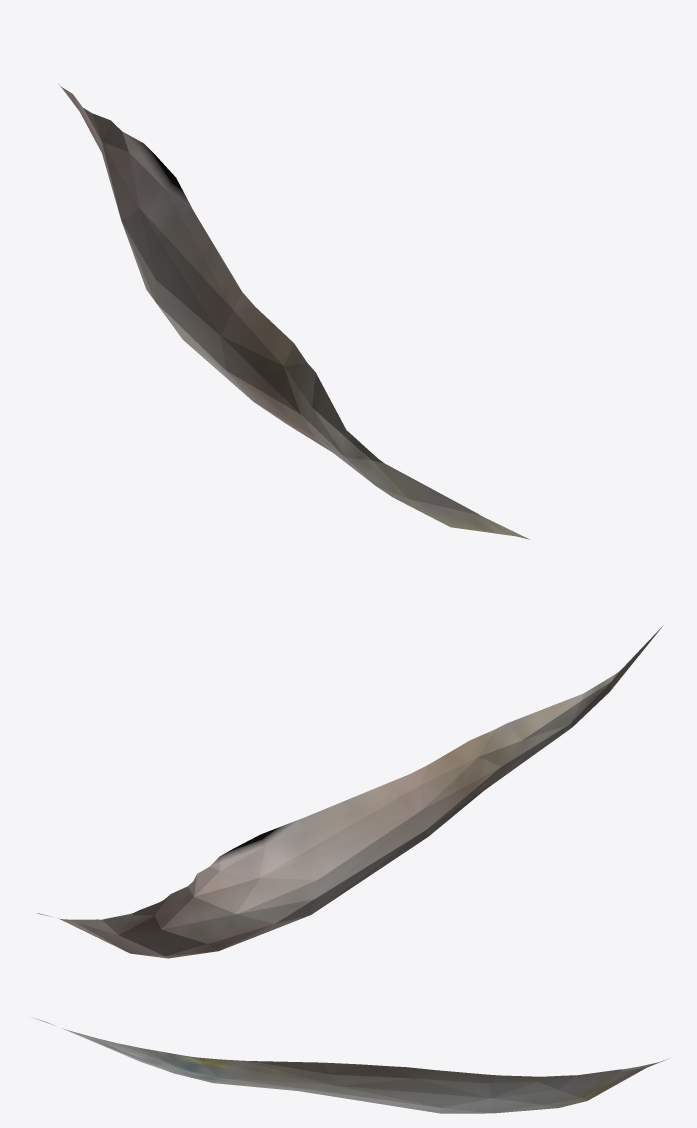
3 views of the same model, one above another, from view 1: azimuth 30°, elevation 25°; view 2: azimuth 150°, elevation 25°; view 3: azimuth 270°, elevation 25° (orthographic). The views are drawn at different scales.
Size of the model in its own units: 21.08 by 8.63 by 66.61.
1 material, 1 textured.
